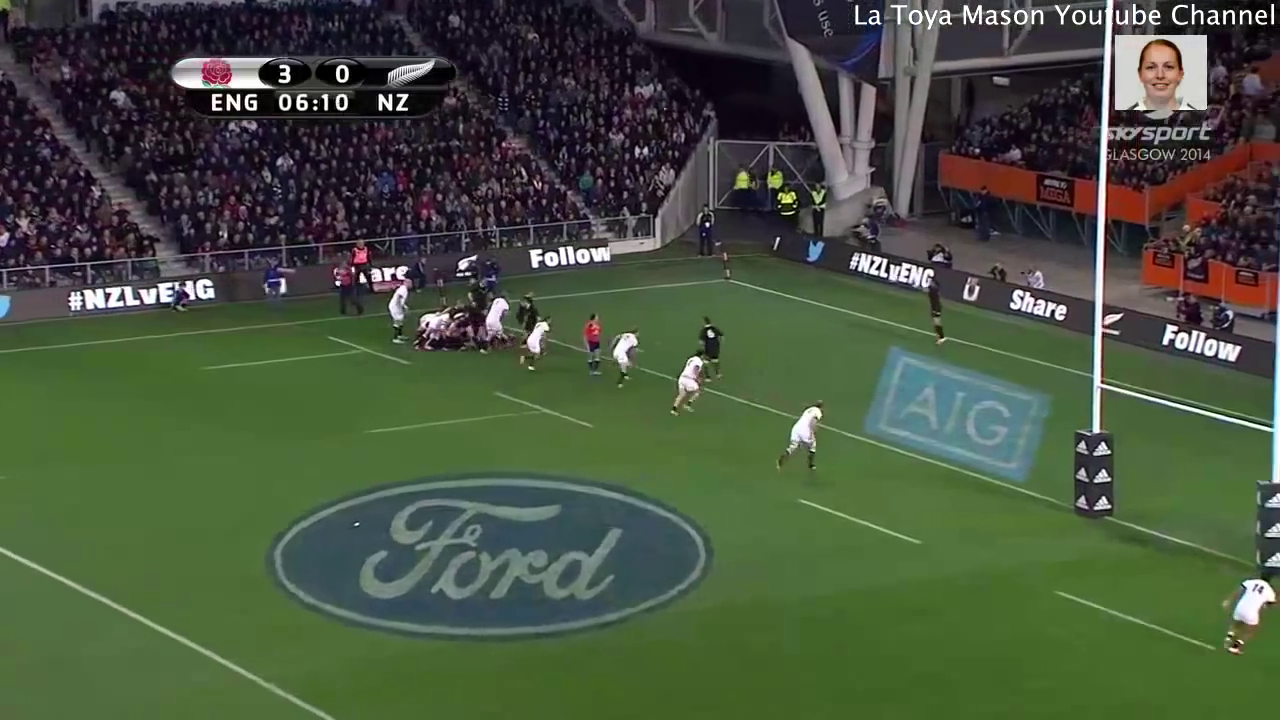player: (1212, 570, 1280, 663), (769, 395, 838, 484), (605, 324, 654, 400), (691, 312, 737, 387), (667, 344, 708, 414), (381, 272, 415, 350), (579, 312, 613, 383), (482, 286, 515, 355), (518, 314, 555, 372), (451, 298, 488, 356), (515, 289, 549, 350), (411, 307, 451, 349), (467, 274, 498, 316)
post: (1055, 164, 1280, 584)
